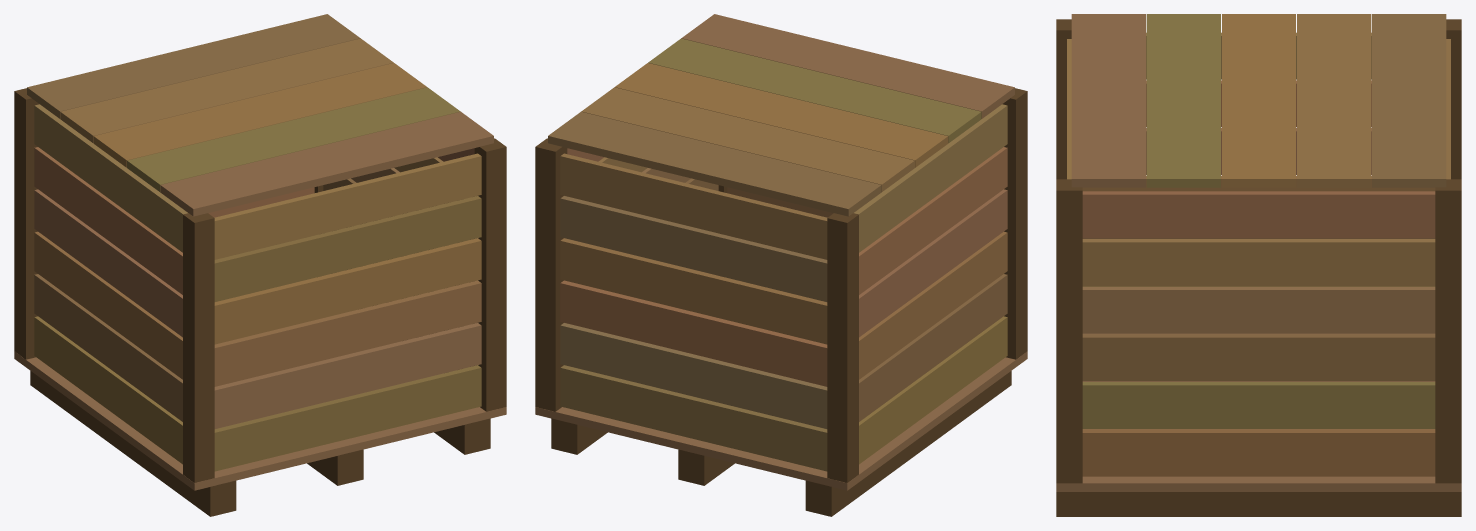
Rendered from crate.glb.
3 views of the same model, side by side, from view 1: azimuth 30°, elevation 25°; view 2: azimuth 150°, elevation 25°; view 3: azimuth 270°, elevation 25° (orthographic). The views are drawn at different scales.
Visible parts, largest first — view 1: crate; view 2: crate; view 3: crate.
Part boxes in pixels (<box>): crate: <box>14,14,506,516</box>; crate: <box>535,14,1027,516</box>; crate: <box>1056,14,1461,516</box>.
Size of the model in its own units: 1.08 by 1.01 by 1.08.
